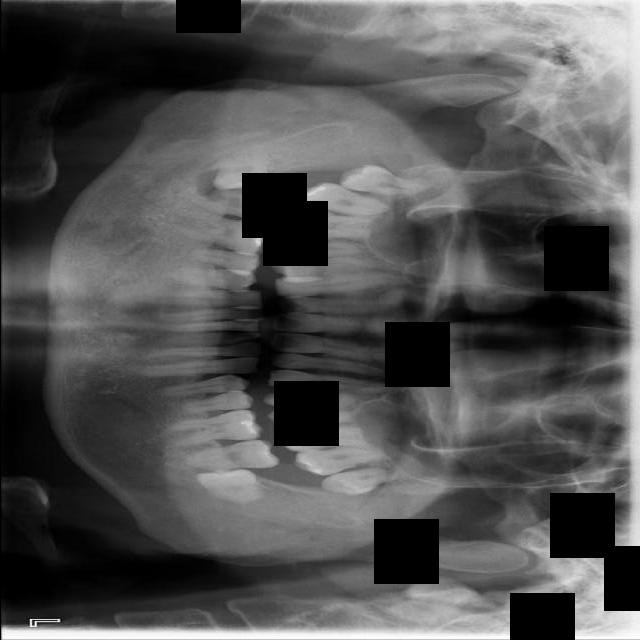3M ESPE Implant: (336, 158, 435, 204)
52: (219, 218, 272, 257), (210, 409, 264, 442), (227, 189, 282, 221)
73: (22, 600, 36, 609)
BioHorizons Implant: (292, 443, 386, 479)
BioLife Implant: (317, 464, 400, 500)
Biomet 3i Implant: (194, 468, 264, 505)
Blue Sky Bio Implant: (183, 439, 278, 469)
Caries: (295, 178, 392, 219)
Implant: (189, 185, 283, 222)
Keystone Dental Implant: (213, 144, 274, 189)
